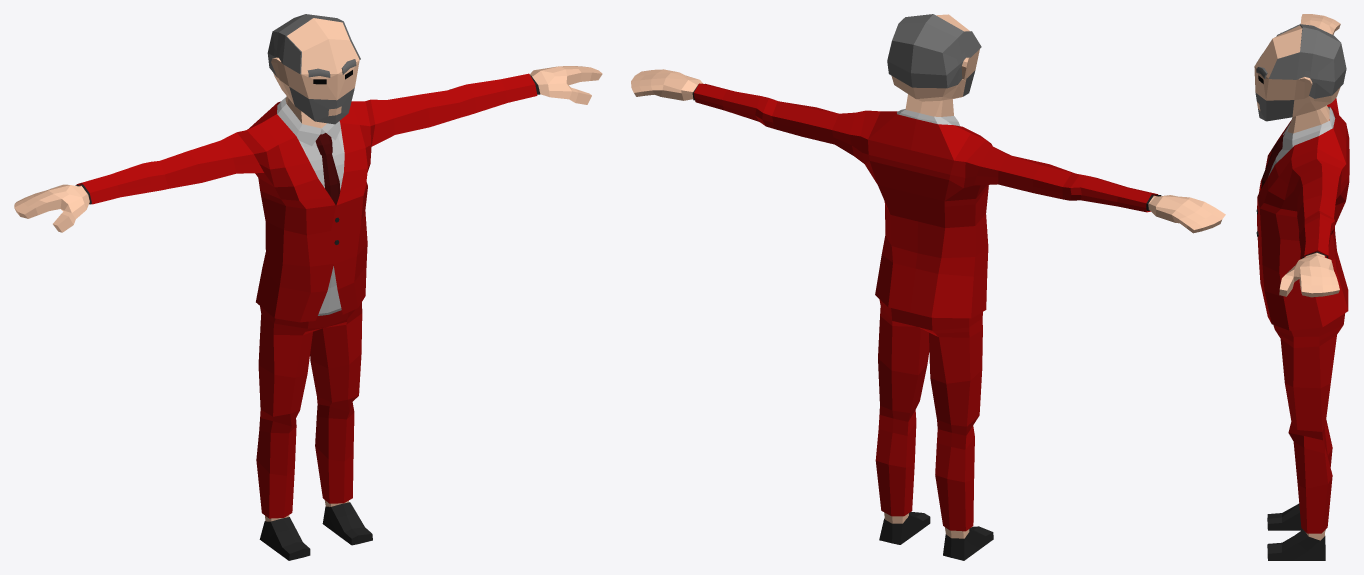
Rendered from NPC_Rojazo_Escenario2_Corbata.fbx.
3 renders of one model, left to right at view 1: azimuth 30°, elevation 25°; view 2: azimuth 150°, elevation 25°; view 3: azimuth 270°, elevation 25°, orthographic. The views are drawn at different scales.
Parts seen in each view (by area): view 1: Personaje; view 2: Personaje; view 3: Personaje.
Part boxes in pixels (x1,y1,x2,y2): Personaje: (14, 14, 602, 560); Personaje: (631, 14, 1225, 560); Personaje: (1254, 14, 1349, 560).
Size of the model in its own units: 215 by 184 by 30.94.
